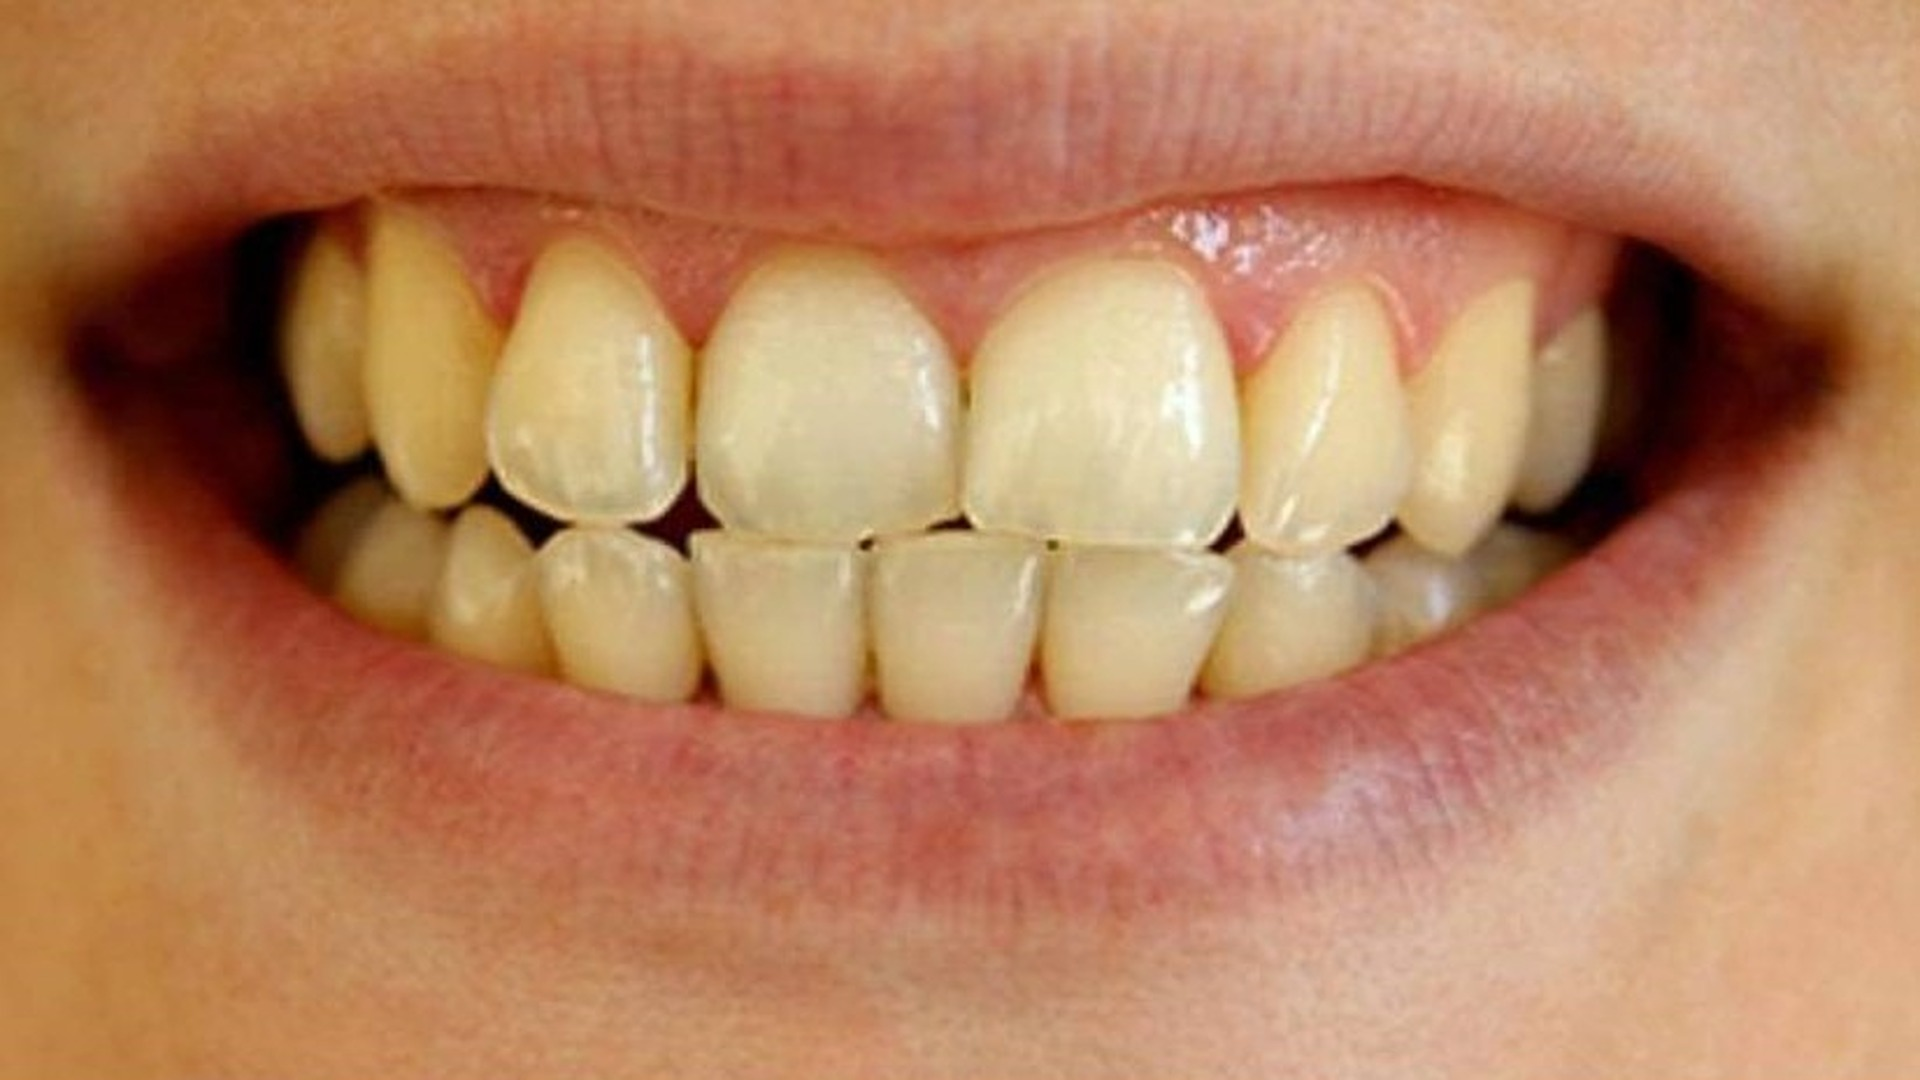tooth: (960, 258, 1242, 549), (695, 243, 960, 545), (484, 233, 694, 527), (1238, 277, 1414, 555), (364, 203, 501, 510), (1398, 280, 1538, 556), (1034, 542, 1236, 720), (686, 529, 872, 717), (866, 530, 1046, 724), (531, 527, 704, 702), (1191, 547, 1375, 699), (277, 200, 371, 463), (426, 504, 549, 665), (1345, 520, 1490, 655)
